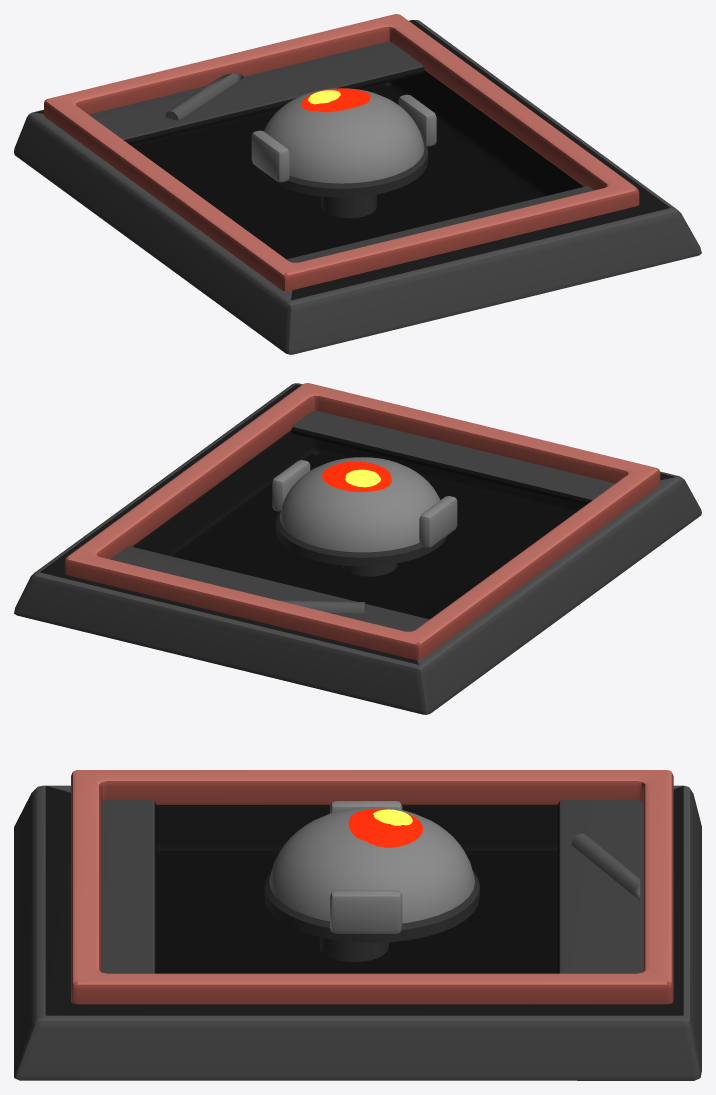
Rendered from hatch_bunker_284.glb.
The picture shows the model from 3 angles, top to bottom: view 1: azimuth 30°, elevation 25°; view 2: azimuth 150°, elevation 25°; view 3: azimuth 270°, elevation 25°; orthographic projection. The views are drawn at different scales.
Visible parts, largest first — view 1: collar, frame, door_up, sensor_dome, sensor_band, door_down, fin-1, door_up_rib, sensor_post, fin1, eye; view 2: collar, frame, sensor_dome, door_down, door_up, sensor_band, fin-1, eye, fin1, door_up_rib; view 3: collar, frame, sensor_dome, door_up, door_down, sensor_band, fin1, eye, door_up_rib, sensor_post, fin-1.
Boxes of the visible parts, x1,y1,x2,y2 form: collar: (14, 20, 701, 354); frame: (44, 14, 639, 291); door_up: (89, 42, 425, 144); sensor_dome: (264, 88, 424, 183); sensor_band: (256, 143, 428, 197); door_down: (286, 186, 593, 262); fin-1: (251, 130, 289, 182); door_up_rib: (165, 73, 243, 120); sensor_post: (321, 194, 376, 218); fin1: (398, 94, 436, 146); eye: (301, 88, 370, 112); collar: (14, 383, 701, 714); frame: (64, 383, 660, 660); sensor_dome: (279, 457, 440, 552); door_down: (291, 411, 615, 504); door_up: (110, 546, 429, 631); sensor_band: (275, 510, 447, 566); fin-1: (419, 496, 457, 547); eye: (322, 461, 391, 492); fin1: (272, 460, 310, 511); door_up_rib: (278, 600, 365, 613); collar: (14, 785, 701, 1080); frame: (71, 770, 673, 1004); sensor_dome: (269, 807, 474, 923); door_up: (558, 800, 643, 973); door_down: (101, 800, 156, 973); sensor_band: (264, 870, 479, 942); fin1: (330, 890, 402, 933); eye: (348, 808, 422, 847); door_up_rib: (571, 833, 640, 900); sensor_post: (319, 937, 388, 961); fin-1: (330, 801, 402, 813).
Bounding box in the file's own units: 19.8 × 7.6 × 22.83.
